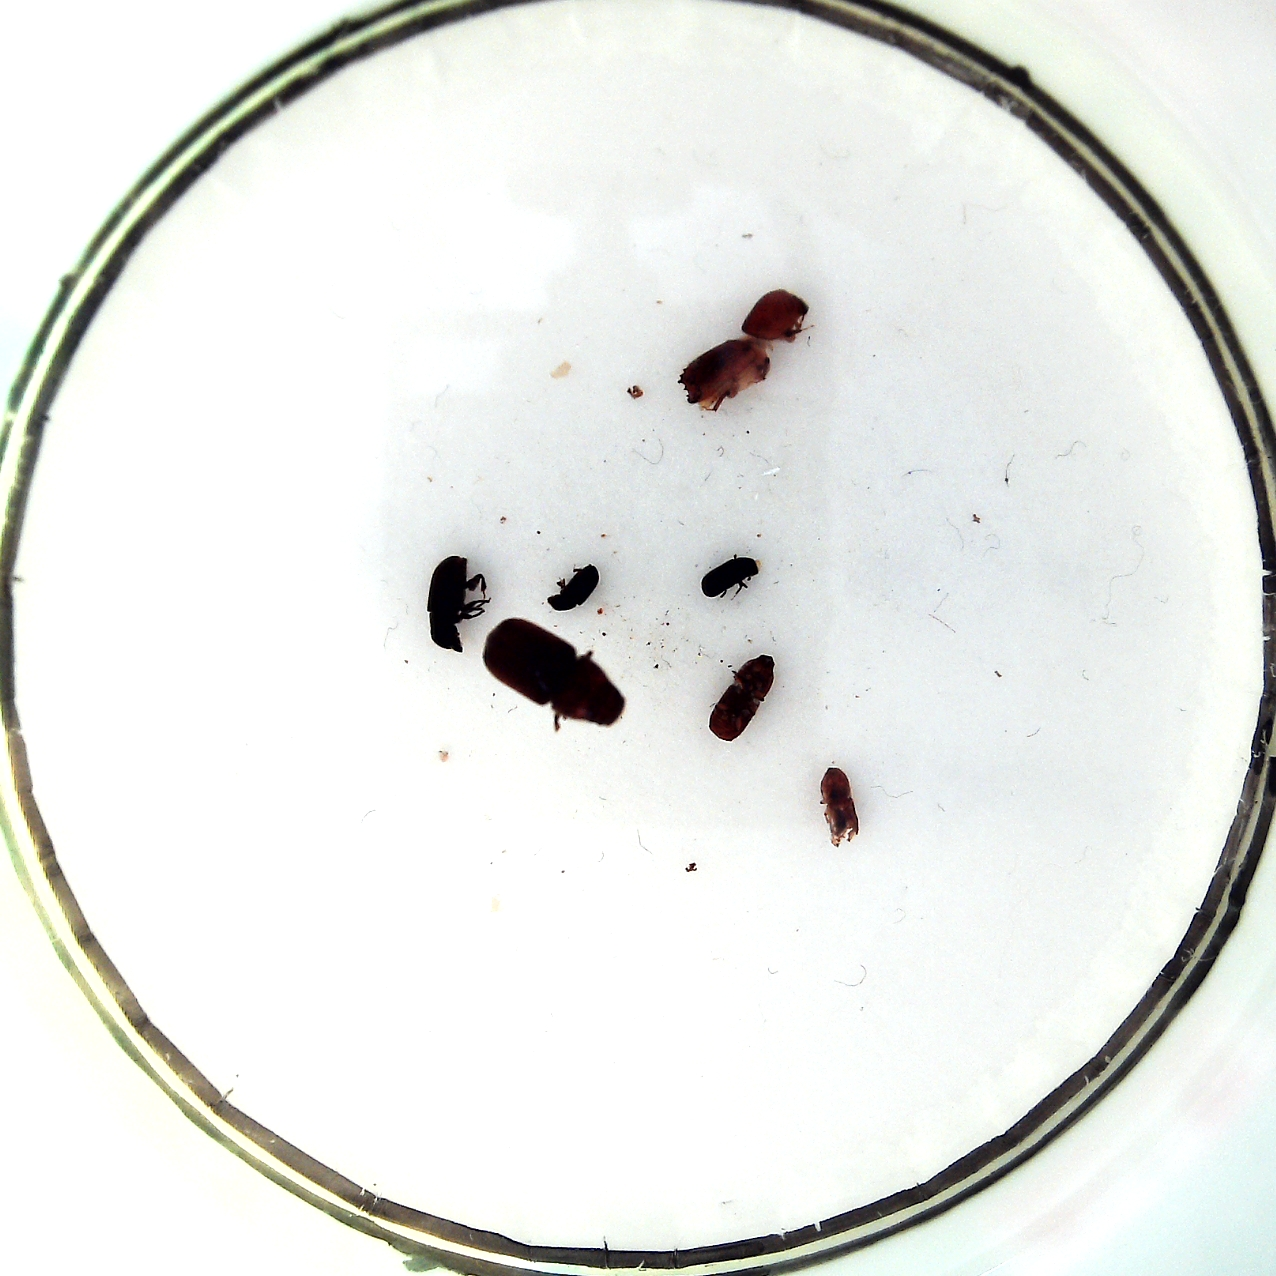Boerner: (673, 290, 811, 412)
Leconte: (480, 618, 627, 731)
Linnaeus: (709, 651, 778, 740)
acuminatus: (818, 765, 860, 846)
armandi: (425, 554, 486, 653)
coleoptera: (545, 560, 602, 612), (699, 553, 760, 599)
